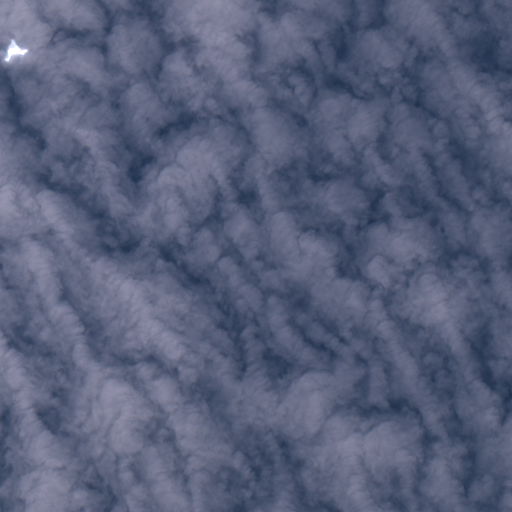Iceberg: (5, 39, 28, 61)
